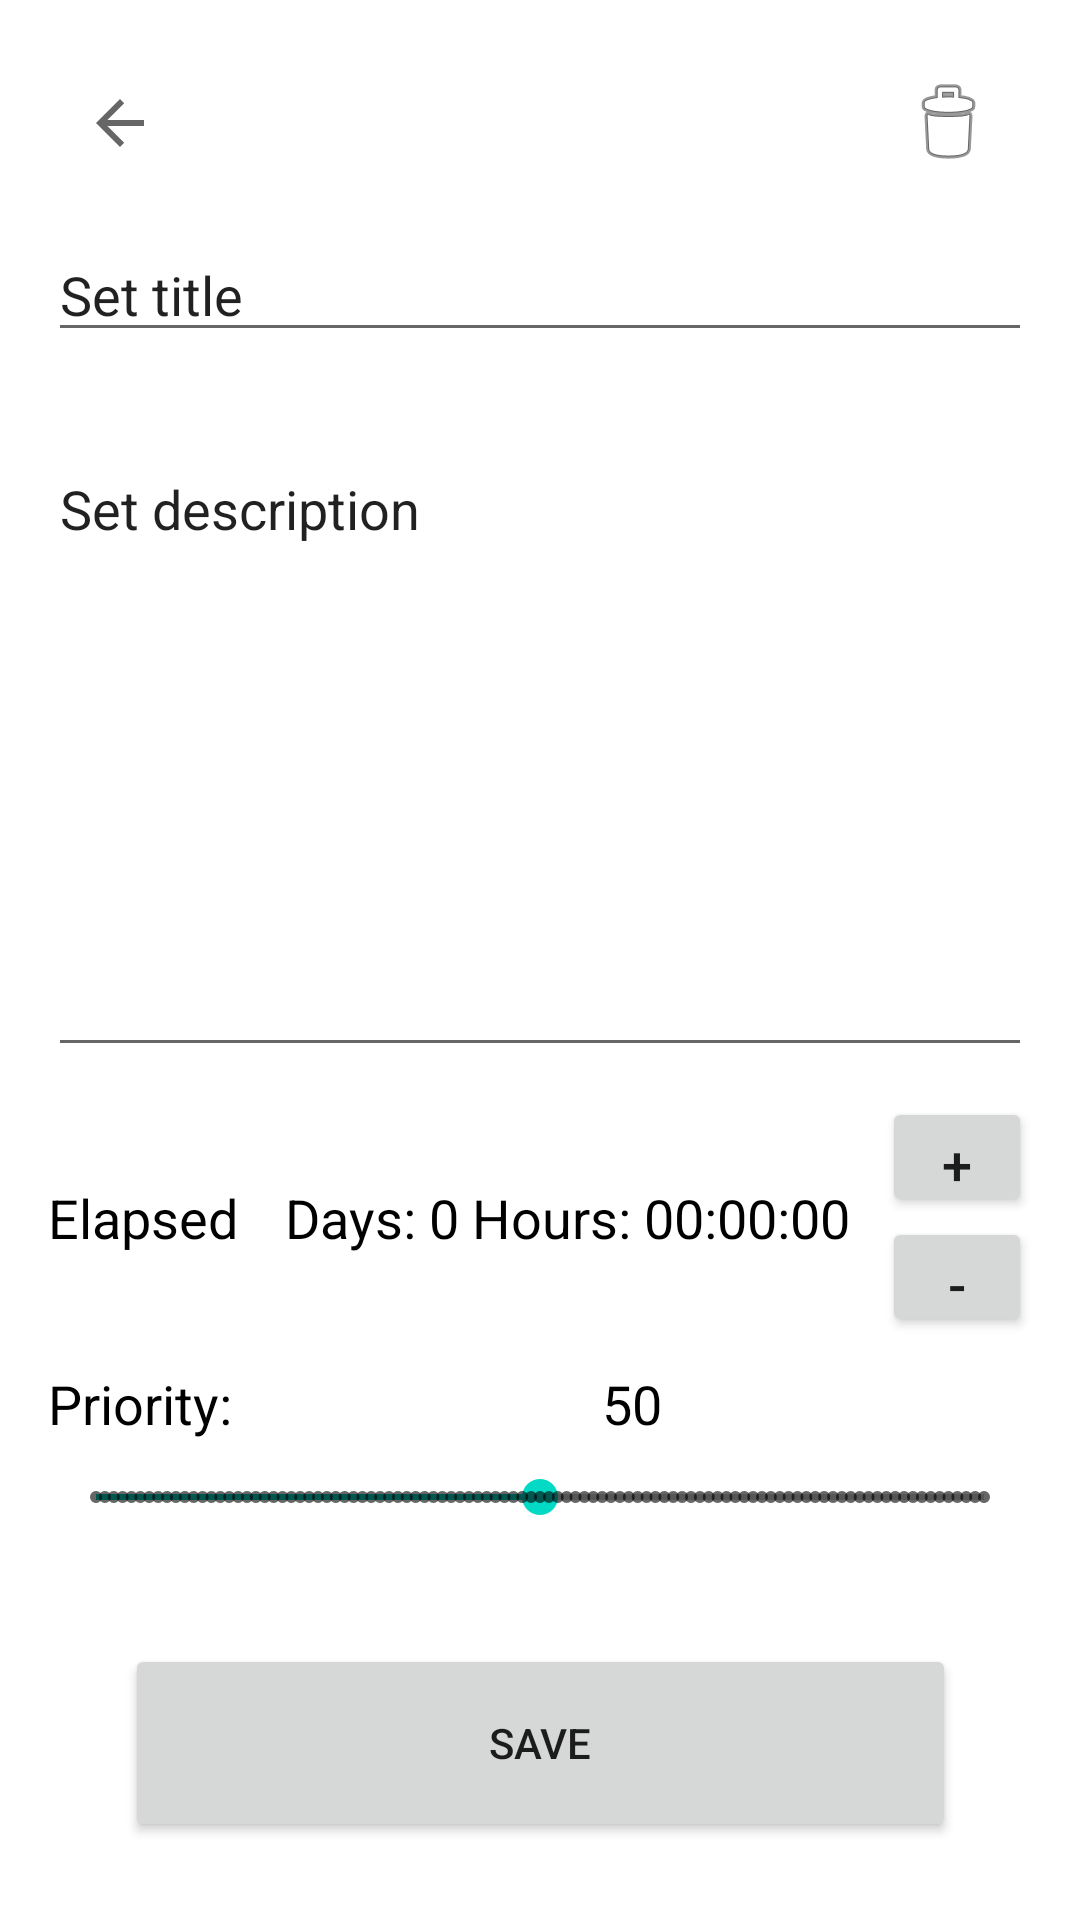

Icons on this 1080 x 1920 Android screen, each with its box as (x1, y1, x2, y2):
delete: (921, 84, 976, 159)
